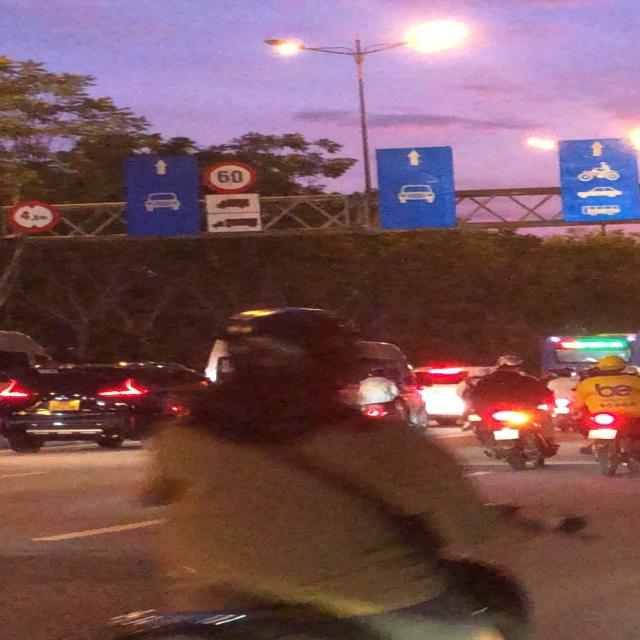Bien bao han che chieu cao: (7, 200, 64, 236)
Bien bao toc do toi da cho phep: (201, 159, 258, 195)
